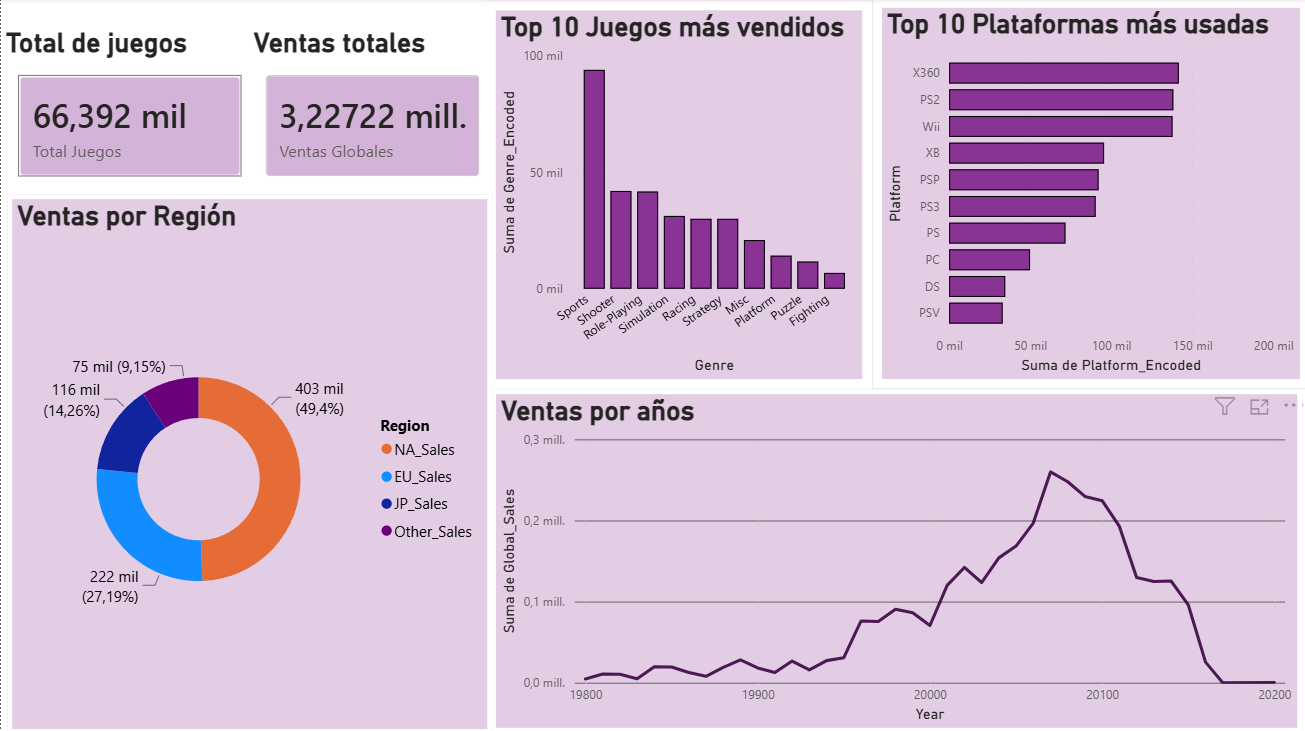

What the dashboard file says about the page in this screenshot:
{"tool":"powerbi","page":{"name":"Página 1","canvas":[1280,720],"ordinal":0},"visuals":[{"type":"cardVisual","title":"Total de juegos","fields":{"Data":["videojuegos_limpio.Total Juegos"]},"box":[0,27.6,252.2,164],"z":0},{"type":"cardVisual","title":"Ventas totales","fields":{"Data":["videojuegos_limpio.Ventas Globales"]},"box":[242.6,27.6,243.9,164],"z":1000},{"type":"columnChart","title":"Top 10 Juegos más vendidos","fields":{"Y":["Sum(videojuegos_limpio.Genre_Encoded)"],"Category":["videojuegos_limpio.Genre"]},"box":[474.1,2.8,377.6,380.4],"z":2000},{"type":"barChart","title":"Top 10 Plataformas más usadas","fields":{"Y":["Sum(videojuegos_limpio.Platform_Encoded)"],"Category":["videojuegos_limpio.Platform"]},"box":[852.3,0,428,382.7],"z":3000},{"type":"lineChart","title":"Ventas por años","fields":{"Y":["Sum(videojuegos_limpio.Global_Sales)"],"Category":["videojuegos_limpio.Year"]},"box":[479.6,383.1,793.8,336.3],"z":4000},{"type":"donutChart","title":"Ventas por Región","fields":{"Category":["videojuegos_limpio.Region"],"Y":["Sum(videojuegos_limpio.Ventas)"]},"box":[5.5,191.6,474.1,527.8],"z":4001}]}

Visuals, with their boxes in screenshot pixels (x1, y1, x2, y2), scaled from the page's 1280x720 canvas onto the 1305x731 screenshot:
"Total de juegos" cardVisual: bbox(0, 28, 257, 195)
"Ventas totales" cardVisual: bbox(247, 28, 496, 195)
"Top 10 Juegos más vendidos" columnChart: bbox(483, 3, 868, 389)
"Top 10 Plataformas más usadas" barChart: bbox(869, 0, 1304, 389)
"Ventas por años" lineChart: bbox(489, 389, 1298, 730)
"Ventas por Región" donutChart: bbox(6, 195, 489, 730)
